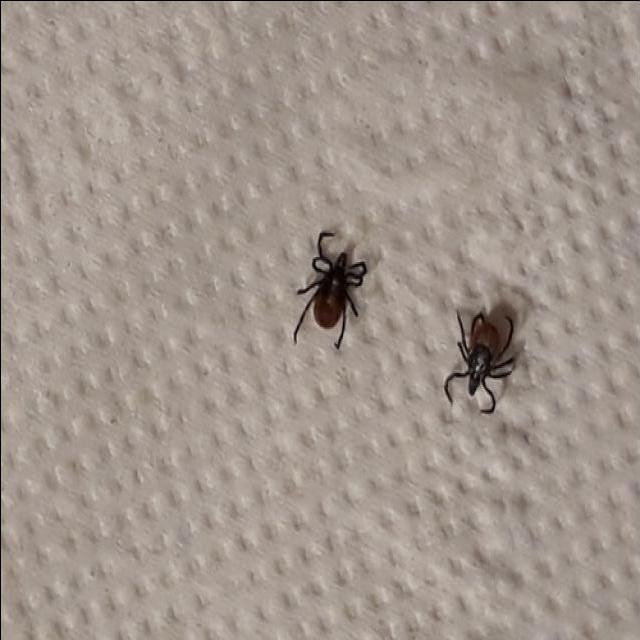Ixodes Ricinus-F: (444, 299, 525, 416)
